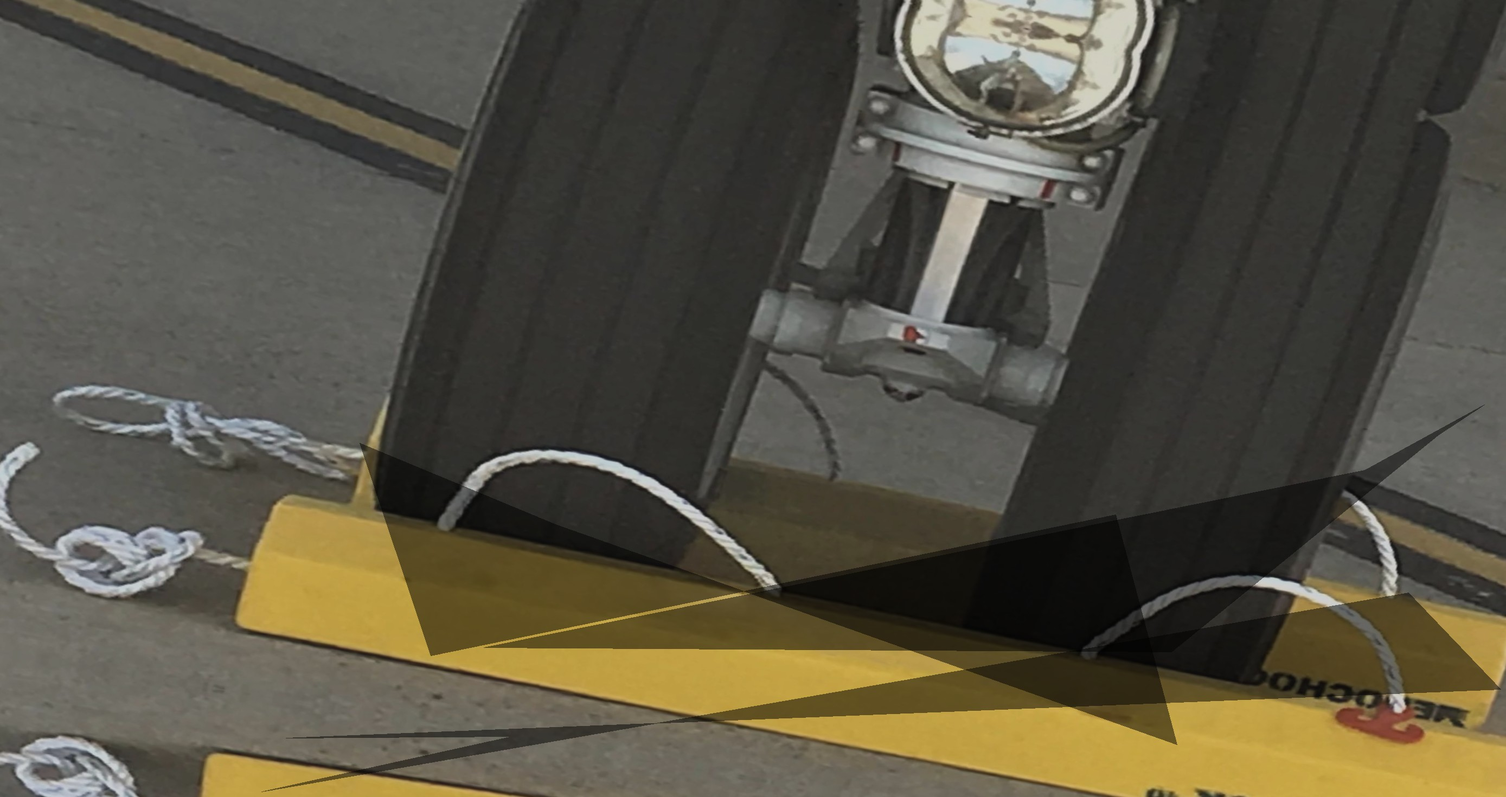chock: (341, 391, 1506, 745), (224, 484, 1506, 797)
wheel: (965, 54, 1489, 694), (366, 0, 885, 582)
